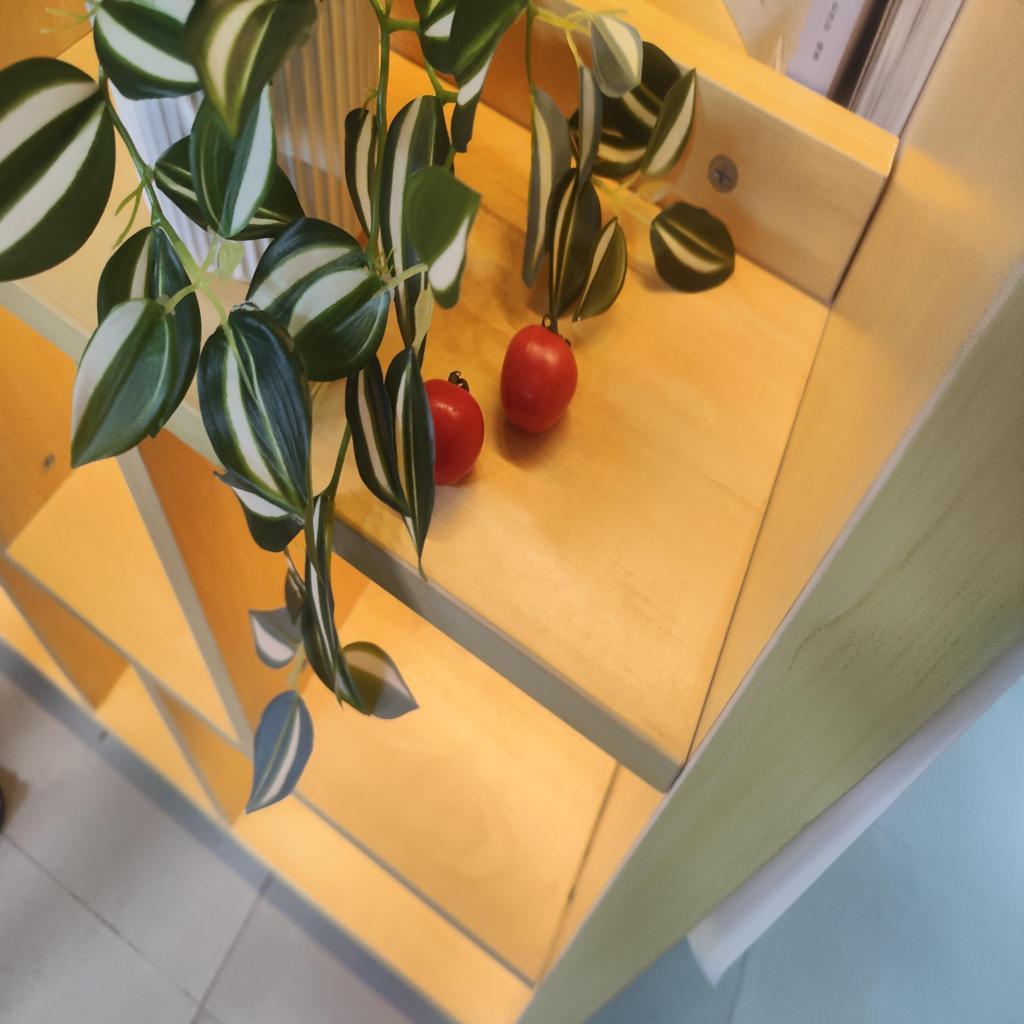tomato: (496, 323, 580, 433), (420, 374, 487, 484)
